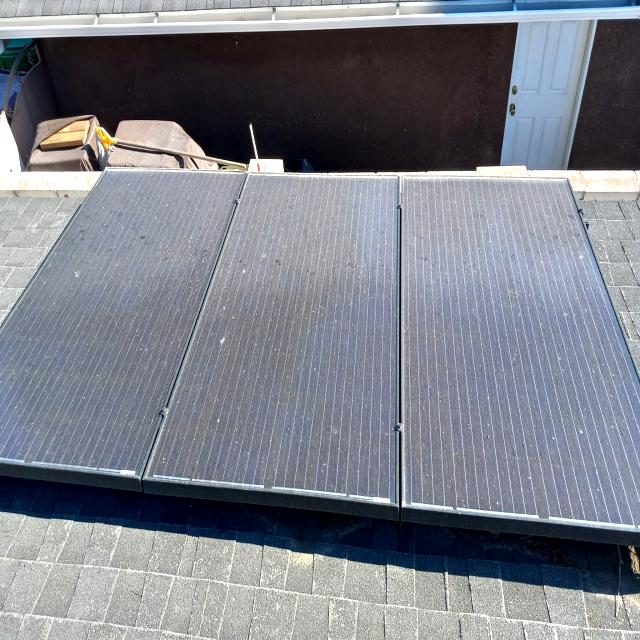dust: (416, 185, 568, 490), (235, 198, 388, 482), (102, 178, 220, 356), (6, 316, 88, 456)
